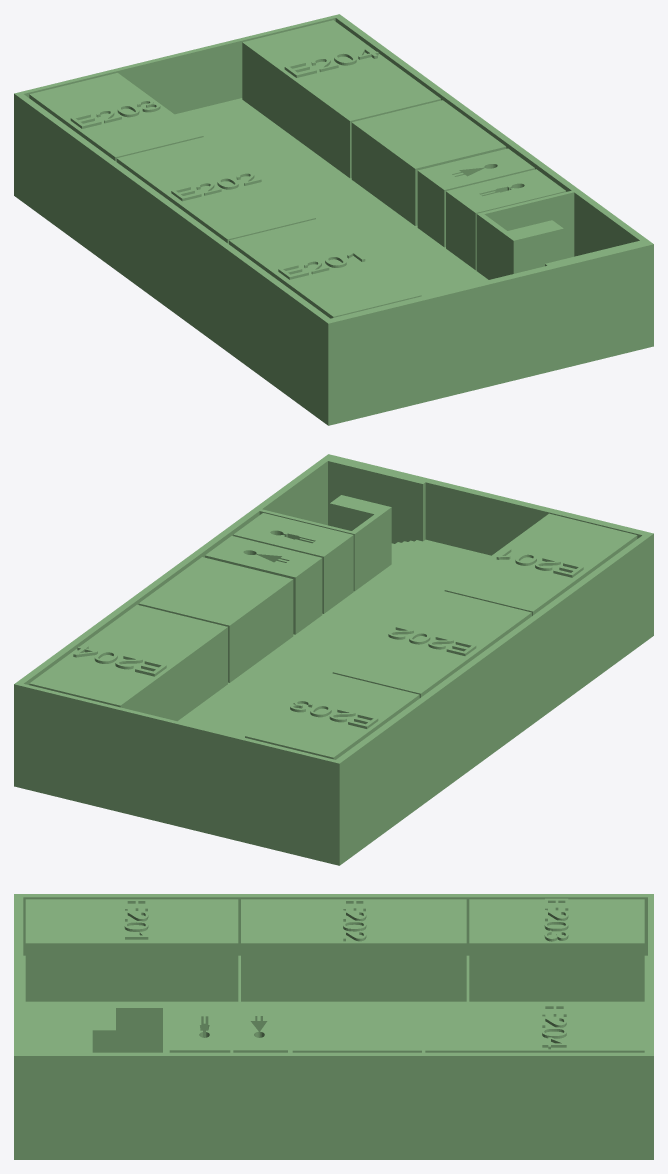
The model's file is Edificio E - Piso2 con Letras.obj.
The picture shows the model from 3 angles, top to bottom: view 1: azimuth 30°, elevation 25°; view 2: azimuth 150°, elevation 25°; view 3: azimuth 270°, elevation 25°; orthographic projection.
Visible parts, largest first — view 1: E_P2_Grupo_4, E204, E202, E_P2_Grupo_2, E201, E203, E_P2_Grupo_3, E_P2_Grupo_1; view 2: E_P2_Grupo_4, E204, E202, E_P2_Grupo_2, E201, E203, E_P2_Grupo_3, E_P2_Grupo_1; view 3: E_P2_Grupo_4, E202, E201, E203, E204, E_P2_Grupo_2, E_P2_Grupo_3, E_P2_Grupo_1.
Part boxes in pixels (left/top/right/bottom): E_P2_Grupo_4: left=14, top=14, right=653, bottom=425; E204: left=242, top=20, right=440, bottom=178; E202: left=116, top=137, right=315, bottom=243; E_P2_Grupo_2: left=351, top=100, right=506, bottom=225; E201: left=229, top=219, right=421, bottom=318; E203: left=29, top=73, right=203, bottom=161; E_P2_Grupo_3: left=446, top=169, right=566, bottom=270; E_P2_Grupo_1: left=417, top=148, right=534, bottom=247; E_P2_Grupo_4: left=14, top=454, right=653, bottom=865; E204: left=29, top=604, right=227, bottom=721; E202: left=332, top=591, right=531, bottom=697; E_P2_Grupo_2: left=138, top=557, right=293, bottom=682; E201: left=444, top=513, right=637, bottom=615; E203: left=245, top=673, right=419, bottom=759; E_P2_Grupo_3: left=233, top=513, right=353, bottom=613; E_P2_Grupo_1: left=205, top=536, right=322, bottom=634; E_P2_Grupo_4: left=14, top=894, right=653, bottom=1159; E202: left=241, top=899, right=466, bottom=1001; E201: left=25, top=899, right=238, bottom=1001; E203: left=469, top=898, right=644, bottom=1001; E204: left=425, top=1004, right=644, bottom=1052; E_P2_Grupo_2: left=292, top=1005, right=421, bottom=1052; E_P2_Grupo_3: left=169, top=1005, right=230, bottom=1052; E_P2_Grupo_1: left=233, top=1005, right=287, bottom=1052.
Size of the model in its own units: 2417 by 744 by 4044.
